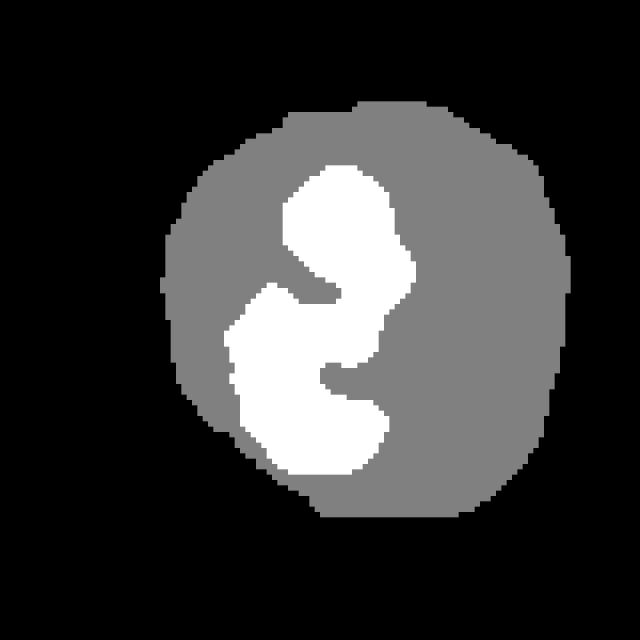WBC: (133, 80, 587, 528)
